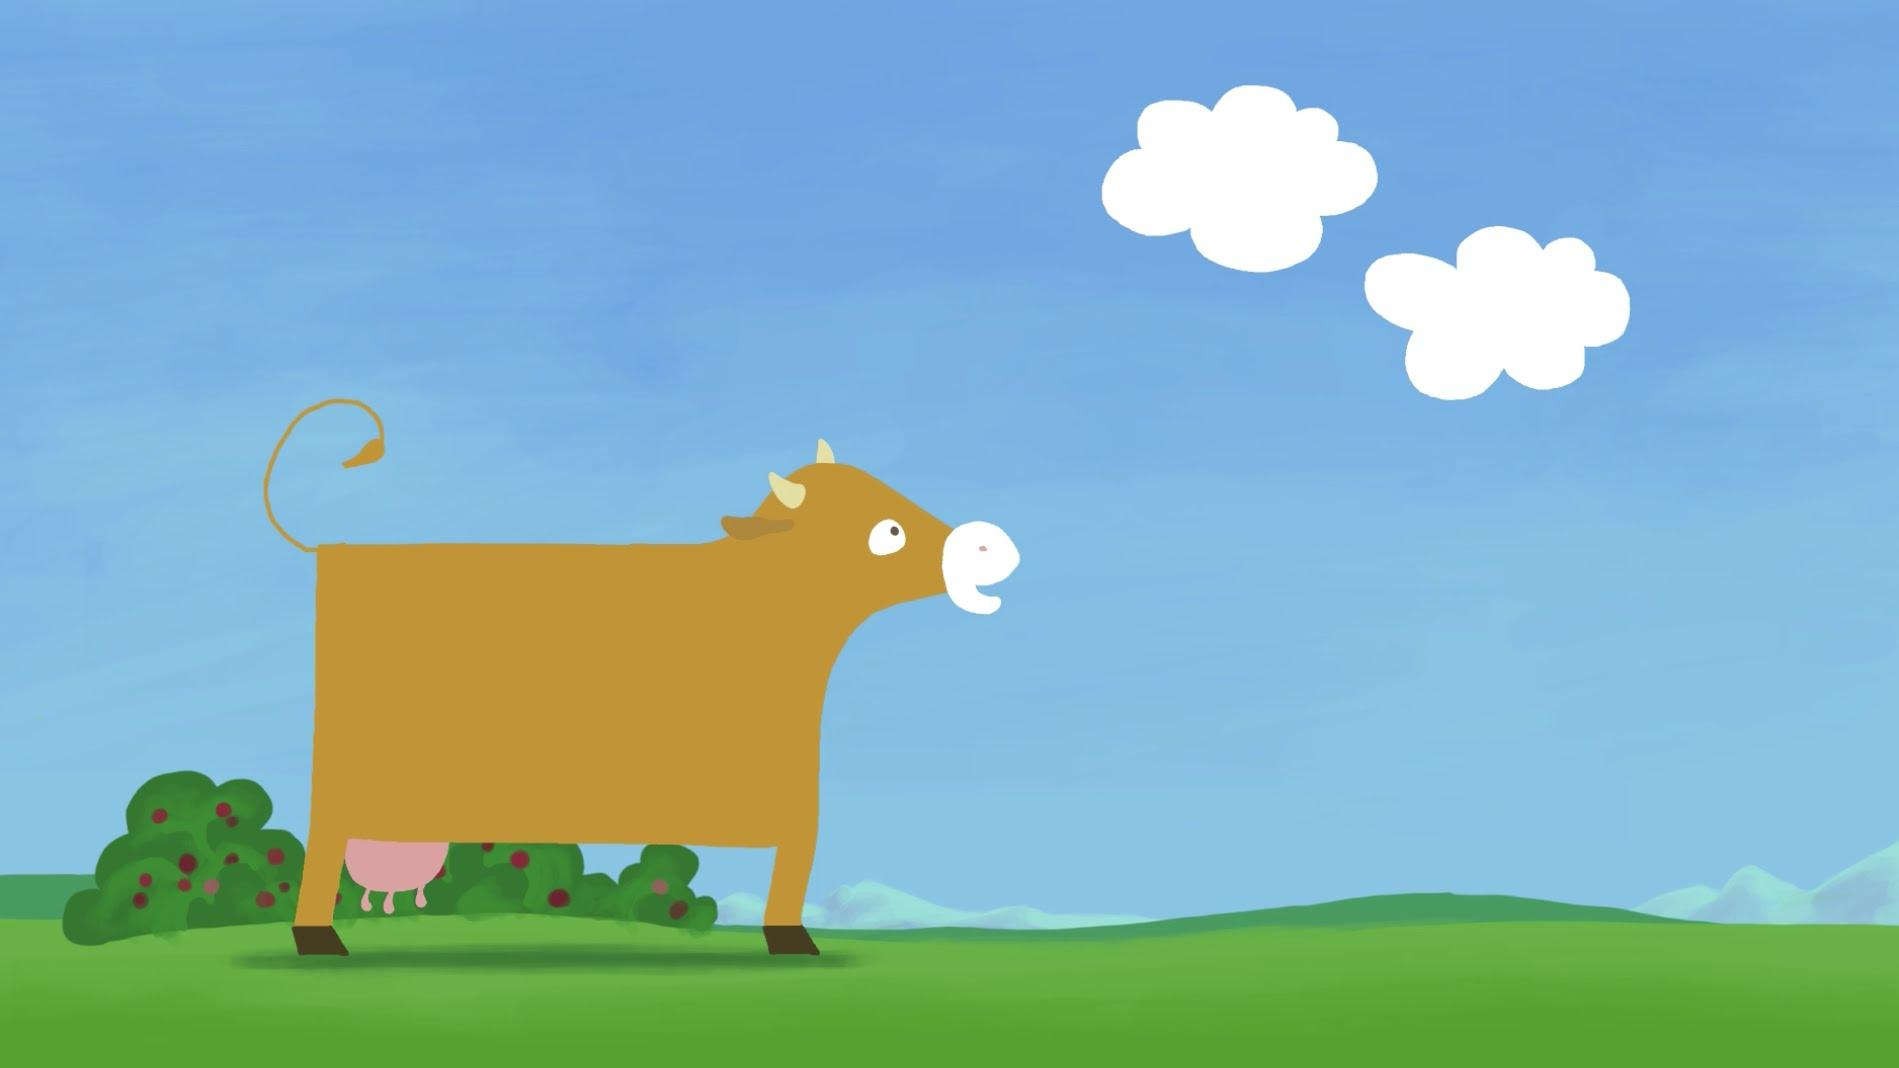cow: (297, 471, 1021, 956)
